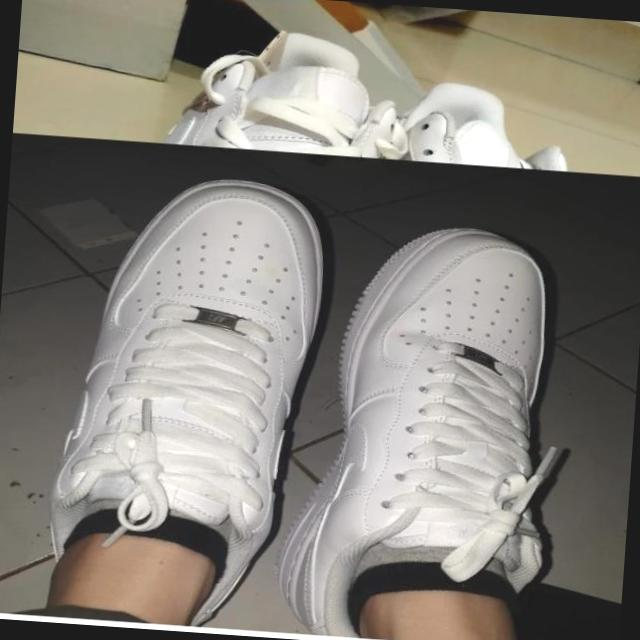nike_original_airforce: (36, 166, 334, 637), (278, 213, 570, 640)
